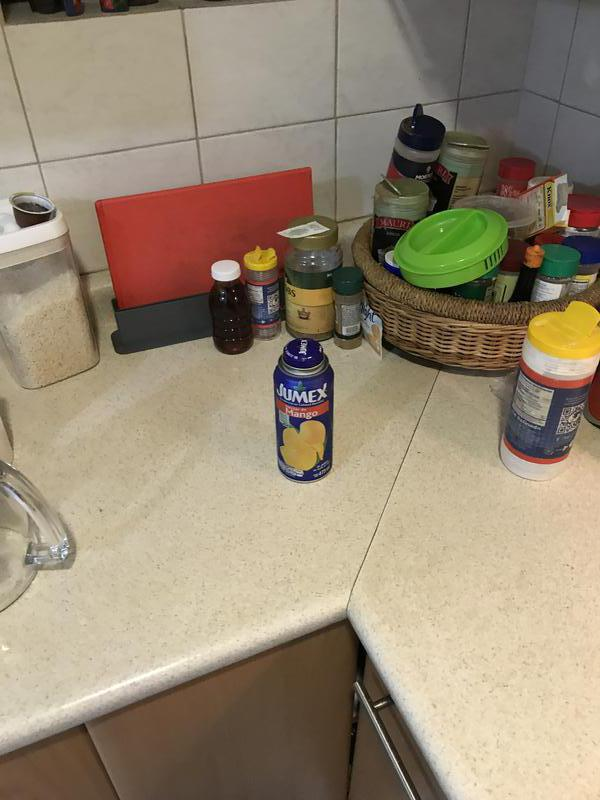jugo_jumex: (271, 340, 337, 485)
